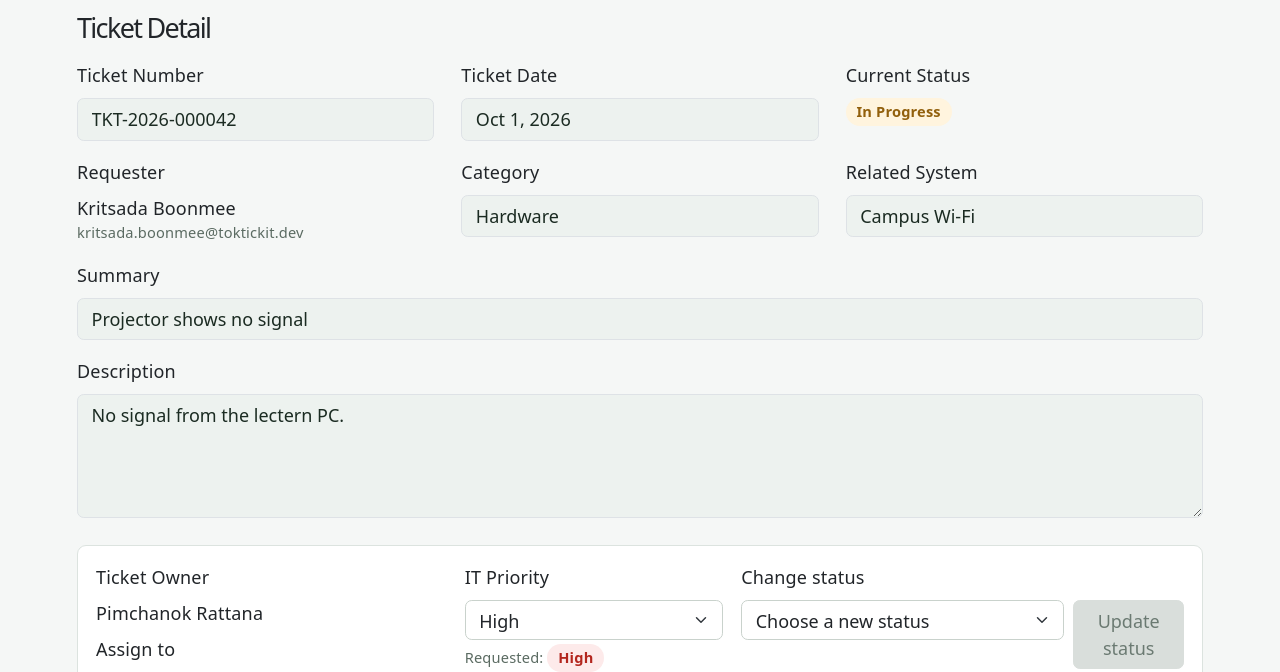
it: Ticket workflow on Staff Ticket Detail › refusals from the server (UI-08, AC-13, AC-14) › shows a gate refusal as a warning with Reload and keeps the displayed status
Expected: the field showing "TKT-2026-000042" is shown, [77,98,434,141]
Select "Resolved" in the dropdown labelled "Change status". click: (903, 620)
box: [741,600,1064,640]
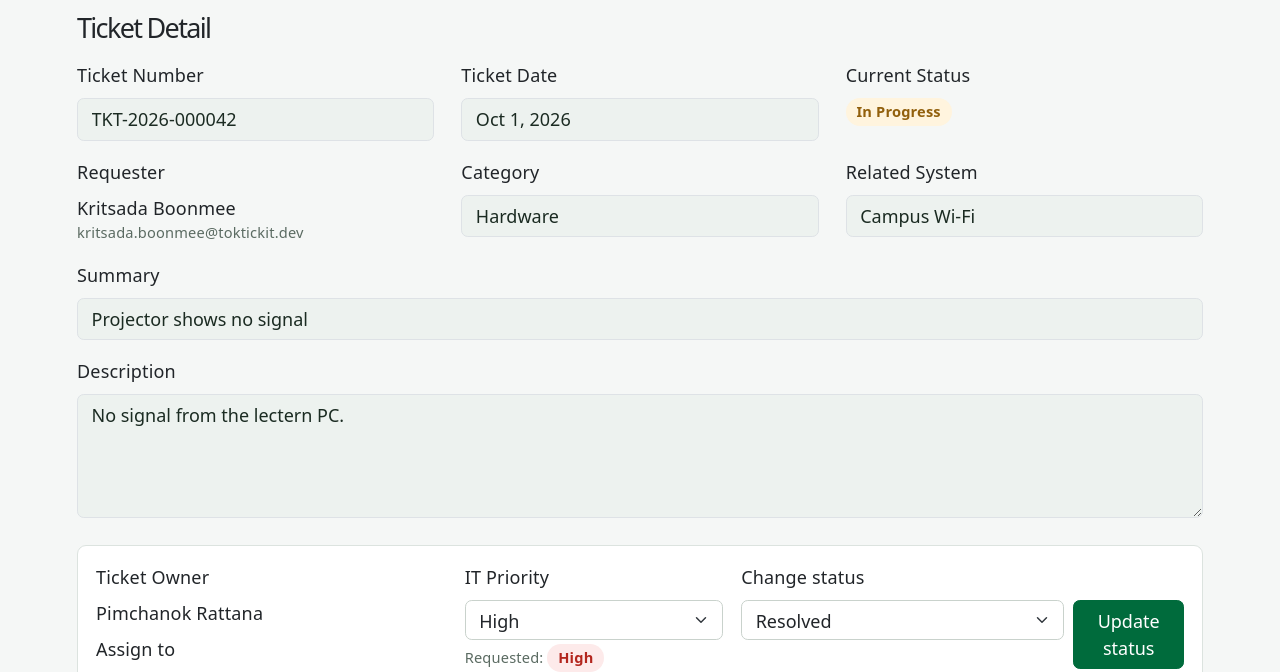
Click the button "Update status". click: (1129, 635)
box: [1073,600,1184,669]
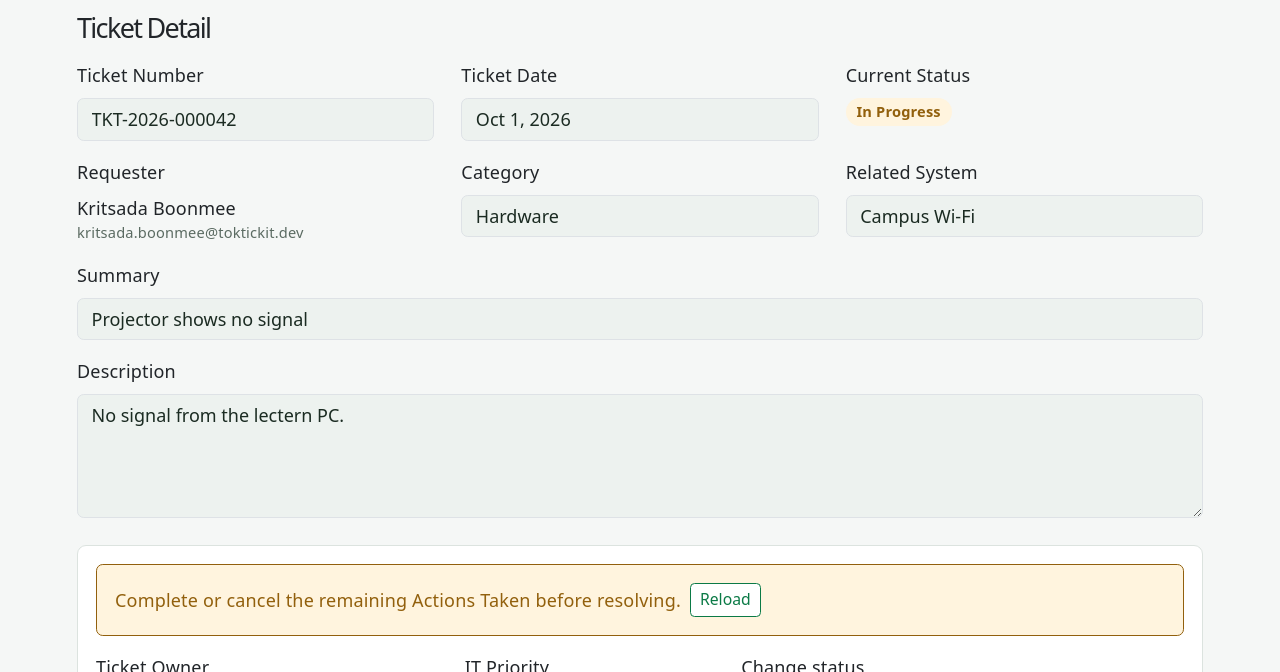
Expected: the text "In Progress" is shown, [846,98,952,126]
Expected: the message shows "Complete or cancel the remaining Actions", [115,588,681,612]
Expected: the button "Reload" is shown, [690,583,761,617]
